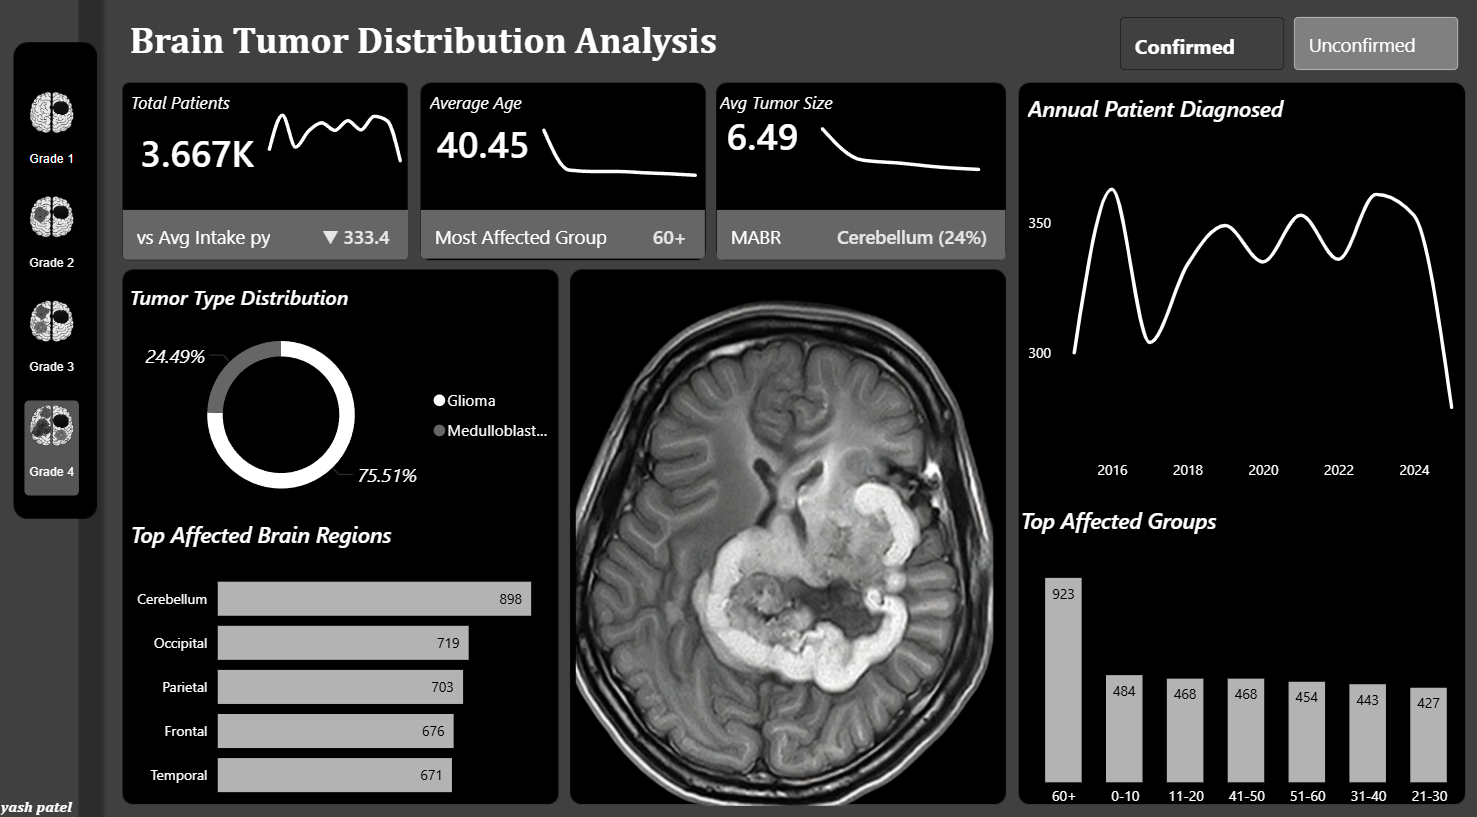

The dashboard page shown, as its layout file describes it:
{"tool":"powerbi","page":{"name":"Page 1","canvas":[1280,720],"ordinal":0},"visuals":[{"type":"cardVisual","fields":{"Data":["Count(Brain Tumor Data.Patient ID)"]},"box":[96.7,90,186.7,96.7],"z":0},{"type":"lineChart","fields":{"Category":["Brain Tumor Data.Date of Diagnosis.Variation.Date Hierarchy.Year","Brain Tumor Data.Date of Diagnosis.Variation.Date Hierarchy.Quarter","Brain Tumor Data.Date of Diagnosis.Variation.Date Hierarchy.Month","Brain Tumor Data.Date of Diagnosis.Variation.Date Hierarchy.Day"],"Y":["CountNonNull(Brain Tumor Data.Patient ID)"]},"box":[221.4,77.1,142.9,90],"z":1000},{"type":"cardVisual","fields":{"Data":["CountNonNull(Brain Tumor Data.Patient ID)"]},"box":[86.2,109,294.3,148.1],"z":2000},{"type":"textbox","box":[112,82,127,33.5],"z":3000},{"type":"cardVisual","fields":{"Data":["Avg(Brain Tumor Data.Age)"]},"box":[351.7,81.7,186.7,96.7],"z":4000},{"type":"lineChart","fields":{"Y":["CountNonNull(Brain Tumor Data.Patient ID)"],"Category":["Brain Tumor Data.Age Group"]},"box":[460,101,158,67],"z":5000},{"type":"cardVisual","fields":{"Data":["CountNonNull(Brain Tumor Data.Patient ID)"]},"box":[343.3,108.6,293.3,147.6],"z":6000},{"type":"textbox","box":[370,81.7,127.5,34.2],"z":7000},{"type":"cardVisual","fields":{"Data":["Avg(Brain Tumor Data.Tumor Size (cm))"]},"box":[601.7,75,186.7,96.7],"z":8000},{"type":"lineChart","fields":{"Category":["Brain Tumor Data.Affected Brain Region"],"Y":["Sum(Brain Tumor Data.Tumor Size (cm))"]},"box":[695,101.7,171.7,66.7],"z":9000},{"type":"cardVisual","fields":{"Data":["CountNonNull(Brain Tumor Data.Patient ID)"]},"box":[598.5,108.5,297.7,148.5],"z":10000},{"type":"textbox","box":[620,81.7,126.7,33.3],"z":11000},{"type":"advancedSlicerVisual","fields":{"Values":["Brain Tumor Data.Histology Confirmation"]},"box":[965,18.3,303.3,56.7],"z":12000},{"type":"ChicletSlicer1448559807354","fields":{"Category":["Tumor Images.Column1"],"Image":["Tumor Images.Column3"]},"box":[16.7,75,80,436.7],"z":13000},{"type":"imageDB603108E3FF4EBFB8047F5653368E8C","fields":{"imageUrl":["Tumor Images.Column2"]},"box":[495.7,247.1,370,472.9],"z":14000},{"type":"donutChart","title":"Tumor Type Distribution","fields":{"Category":["Brain Tumor Data.Tumor Type"],"Y":["CountNonNull(Brain Tumor Data.Patient ID)"]},"box":[111.4,252.9,382.9,204.3],"z":15000},{"type":"barChart","title":"Top Affected Brain Regions","fields":{"Category":["Brain Tumor Data.Affected Brain Region"],"Y":["CountNonNull(Brain Tumor Data.Patient ID)"]},"box":[112,457,383,256],"z":16000},{"type":"lineChart","title":"Annual Patient Diagnosed","fields":{"Category":["Brain Tumor Data.Date of Diagnosis.Variation.Date Hierarchy.Year","Brain Tumor Data.Date of Diagnosis.Variation.Date Hierarchy.Quarter","Brain Tumor Data.Date of Diagnosis.Variation.Date Hierarchy.Month","Brain Tumor Data.Date of Diagnosis.Variation.Date Hierarchy.Day"],"Y":["CountNonNull(Brain Tumor Data.Patient ID)"]},"box":[885.7,90,388.6,342.9],"z":17000},{"type":"clusteredColumnChart","title":"Top Affected Groups","fields":{"Category":["Brain Tumor Data.Age Group"],"Y":["CountNonNull(Brain Tumor Data.Patient ID)"]},"box":[880,445,400,268.3],"z":18000},{"type":"textbox","box":[111.4,18.6,551.4,67.1],"z":19000},{"type":"textbox","box":[0,690,75.5,30],"z":20000}]}

Visuals, with their boxes in screenshot pixels (x1, y1, x2, y2), scaled from the page's 1280x720 canvas onto the 1477x817 screenshot:
cardVisual - Count(Brain Tumor Data.Patient ID): region(112, 102, 327, 212)
lineChart - Brain Tumor Data.Date of Diagnosis.Variation.Date Hierarchy.Year x Brain Tumor Data.Date of Diagnosis.Variation.Date Hierarchy.Quarter: region(255, 87, 420, 190)
cardVisual - CountNonNull(Brain Tumor Data.Patient ID): region(99, 124, 439, 292)
textbox: region(129, 93, 276, 131)
cardVisual - Avg(Brain Tumor Data.Age): region(406, 93, 621, 202)
lineChart - CountNonNull(Brain Tumor Data.Patient ID) x Brain Tumor Data.Age Group: region(531, 115, 713, 191)
cardVisual - CountNonNull(Brain Tumor Data.Patient ID): region(396, 123, 735, 291)
textbox: region(427, 93, 574, 132)
cardVisual - Avg(Brain Tumor Data.Tumor Size (cm)): region(694, 85, 910, 195)
lineChart - Brain Tumor Data.Affected Brain Region x Sum(Brain Tumor Data.Tumor Size (cm)): region(802, 115, 1000, 191)
cardVisual - CountNonNull(Brain Tumor Data.Patient ID): region(691, 123, 1034, 292)
textbox: region(715, 93, 862, 130)
advancedSlicerVisual - Brain Tumor Data.Histology Confirmation: region(1114, 21, 1463, 85)
ChicletSlicer1448559807354 - Tumor Images.Column1 x Tumor Images.Column3: region(19, 85, 112, 581)
imageDB603108E3FF4EBFB8047F5653368E8C - Tumor Images.Column2: region(572, 280, 999, 816)
"Tumor Type Distribution" donutChart: region(129, 287, 570, 519)
"Top Affected Brain Regions" barChart: region(129, 519, 571, 809)
"Annual Patient Diagnosed" lineChart: region(1022, 102, 1470, 491)
"Top Affected Groups" clusteredColumnChart: region(1015, 505, 1476, 809)
textbox: region(129, 21, 765, 97)
textbox: region(0, 783, 87, 816)
